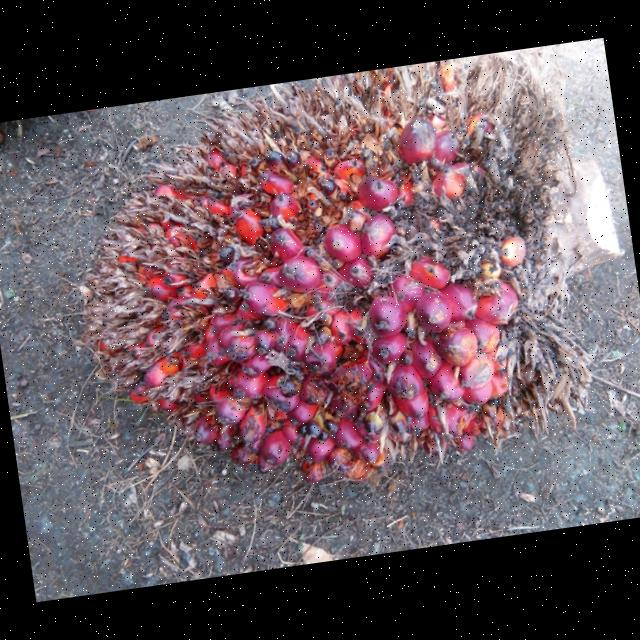Ripe: (86, 57, 577, 478)
